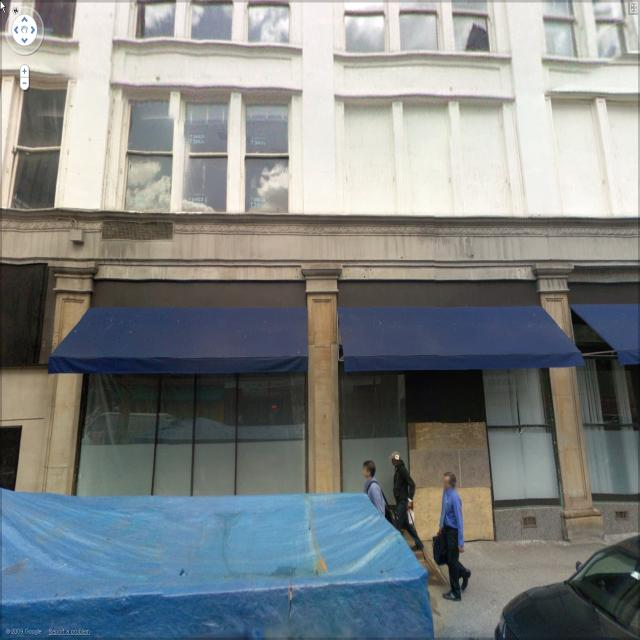b_1: (0, 1, 640, 487)
